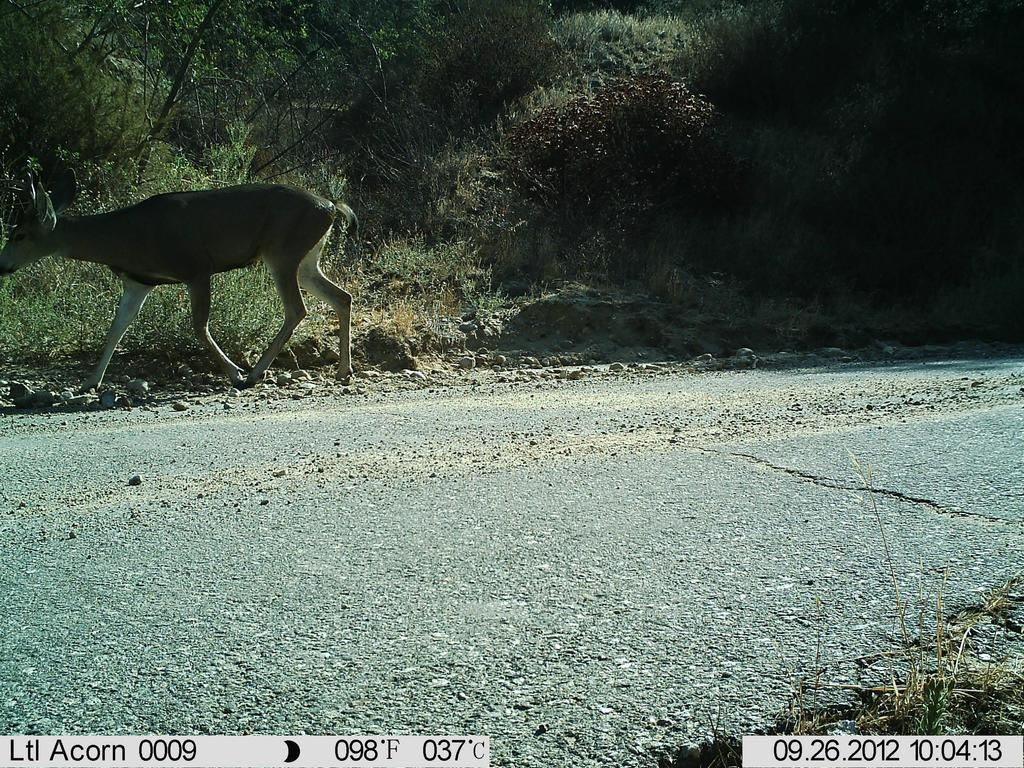deer: (5, 173, 368, 393)
